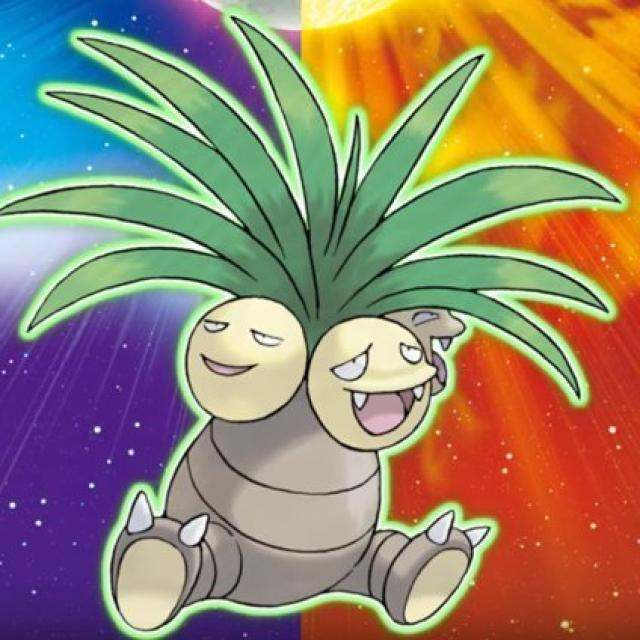Exeggutor: (97, 193, 471, 639)
